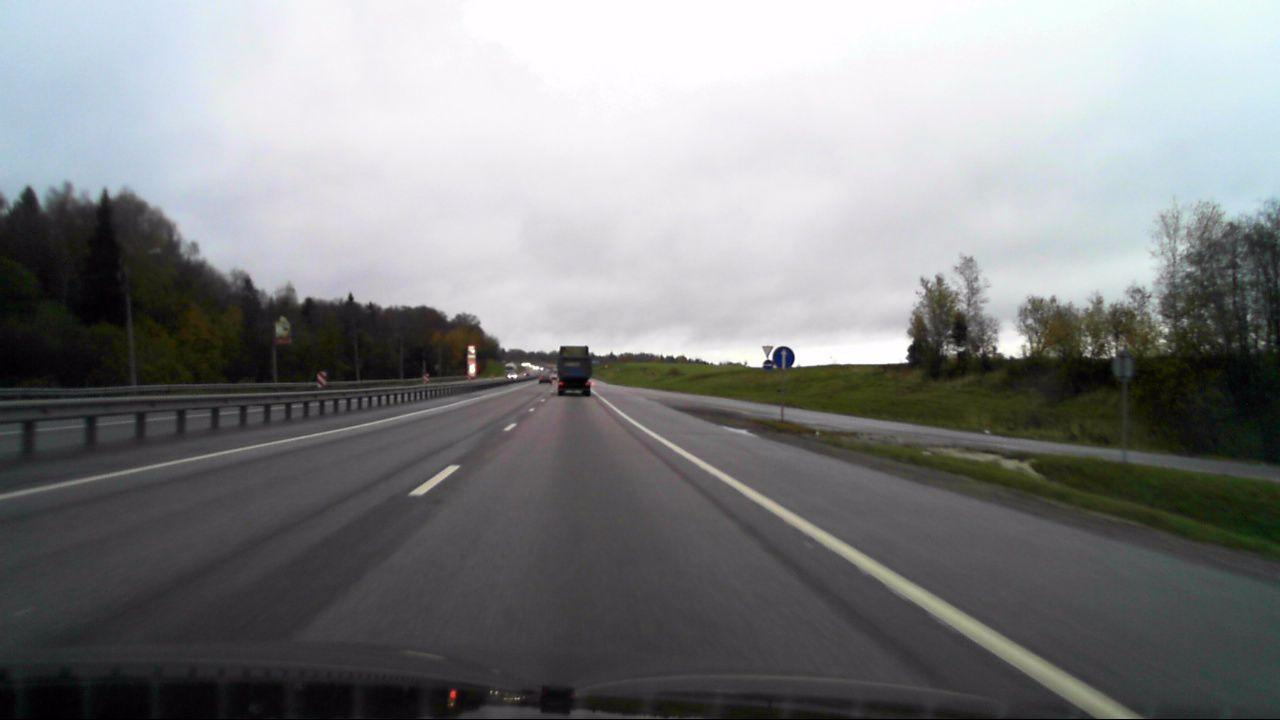2_4: (762, 344, 772, 357)
4_1_1: (773, 346, 794, 368), (762, 360, 774, 371)
8_22_1: (316, 369, 329, 391), (420, 373, 431, 385), (468, 375, 472, 383)
